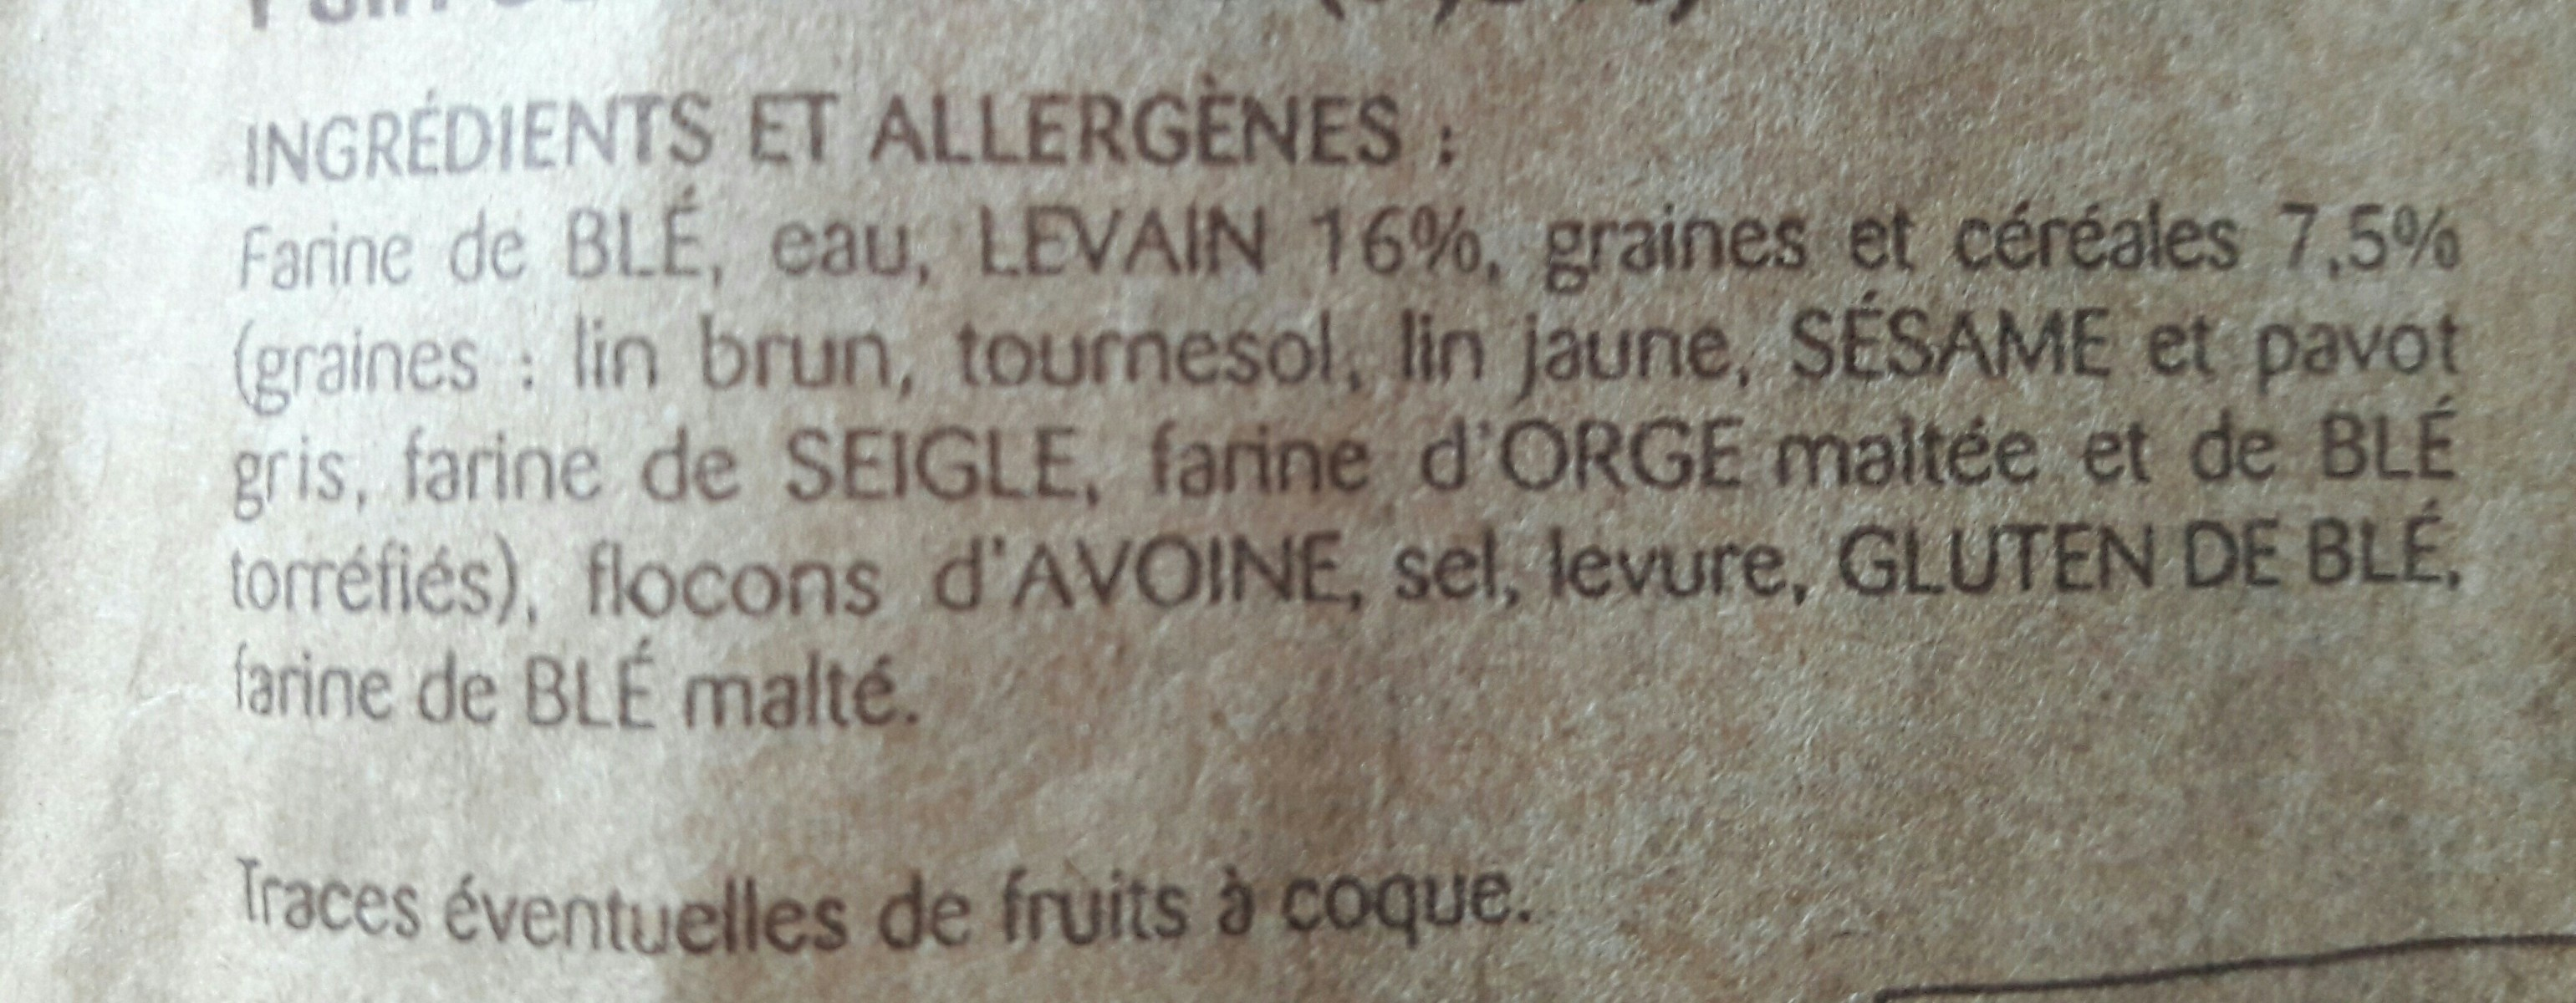ingredients: (145, 71, 2515, 814)
